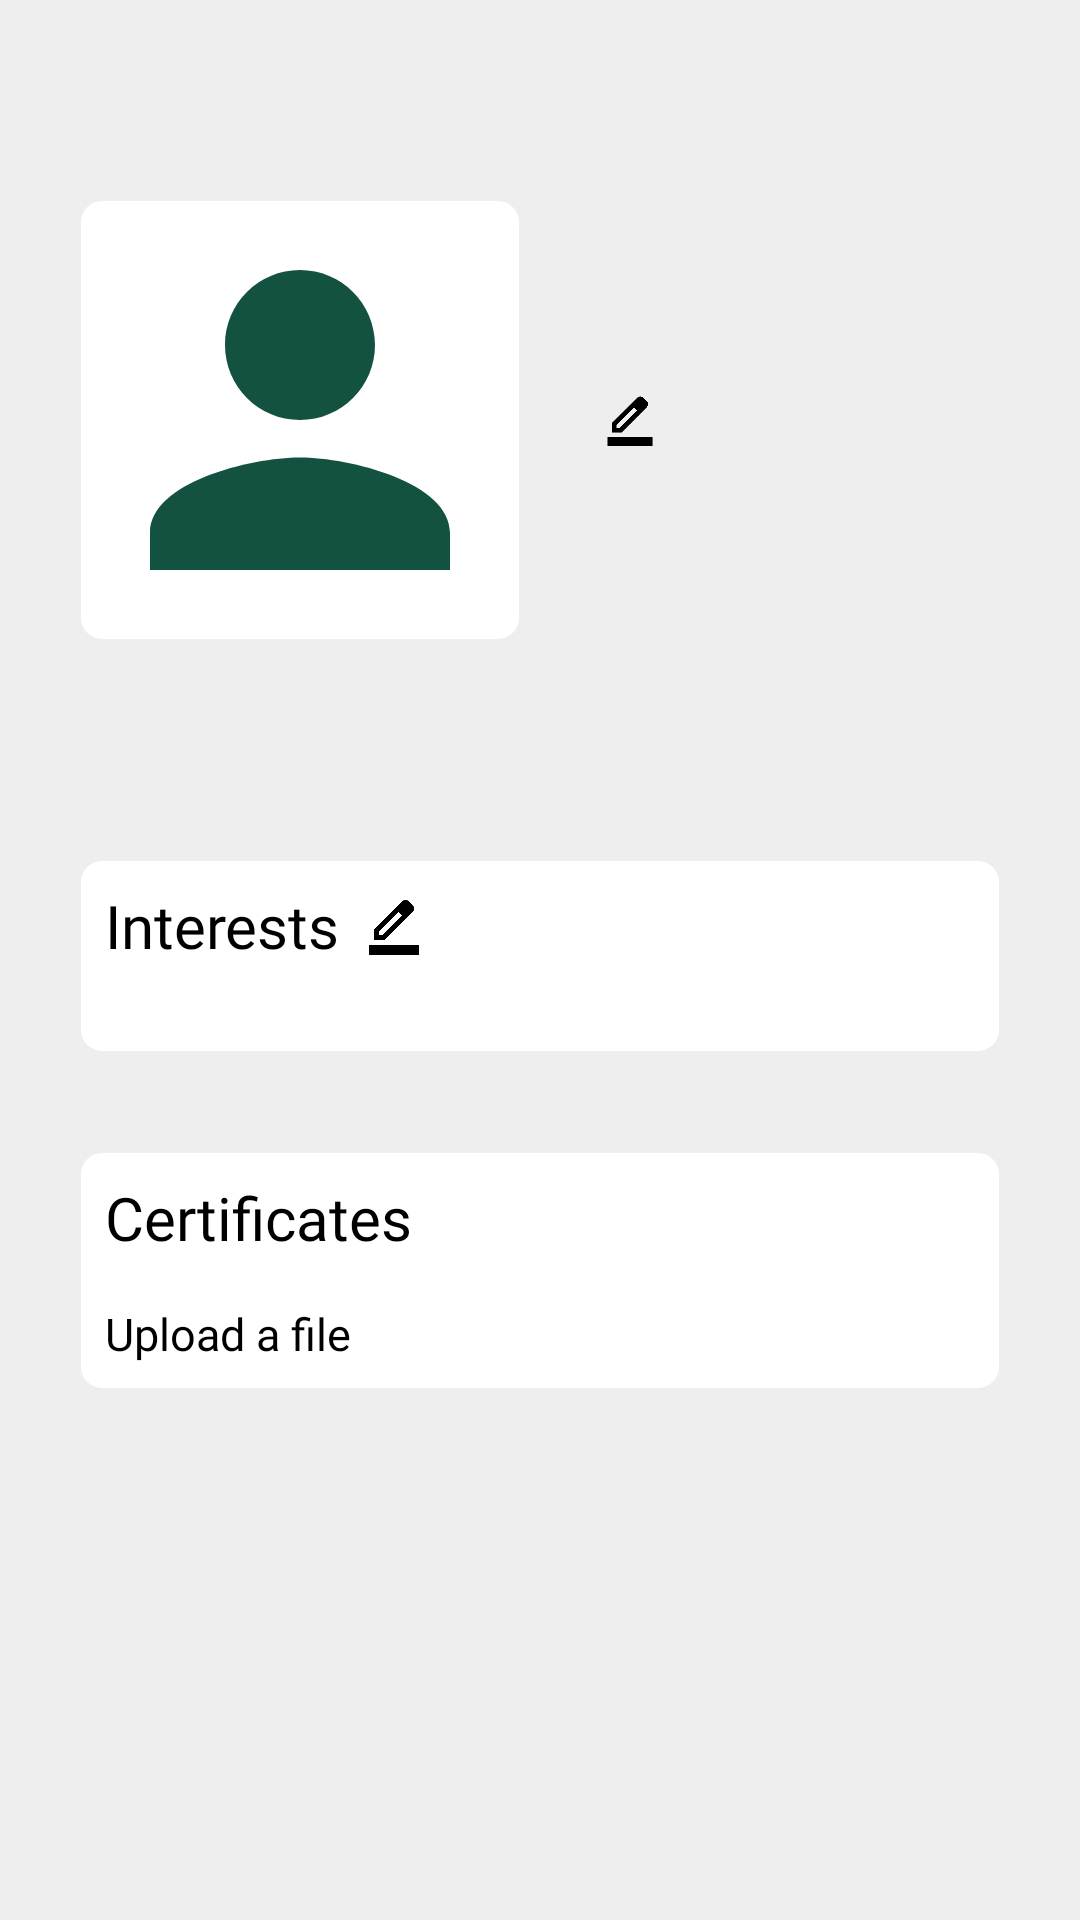

Icons on this 1080w x 1920h Android screen, each with its box as (x1, y1, x2, y2):
person: (150, 270, 450, 570)
